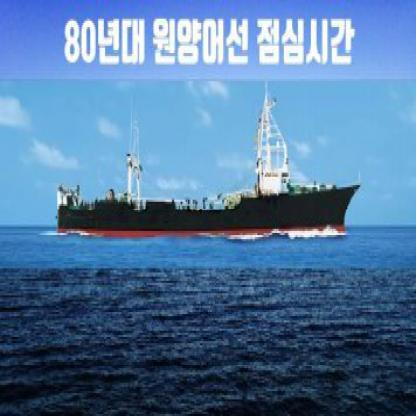fish-b: (52, 85, 364, 250)
